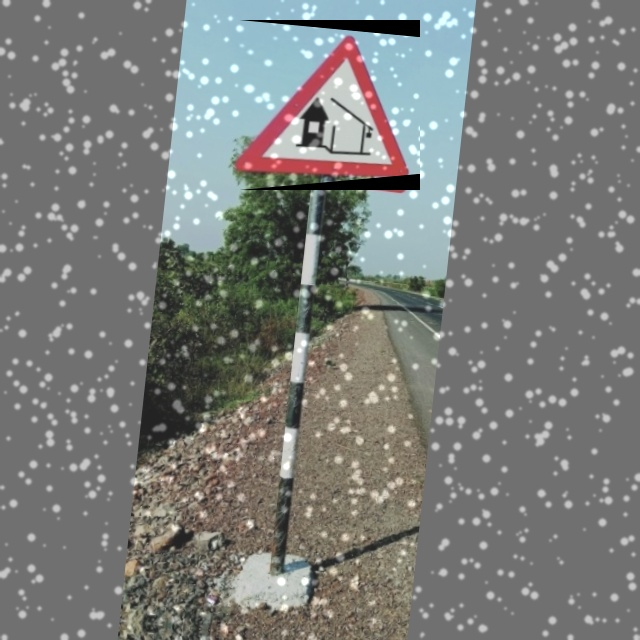Barrier_Ahead: (239, 20, 420, 190)
